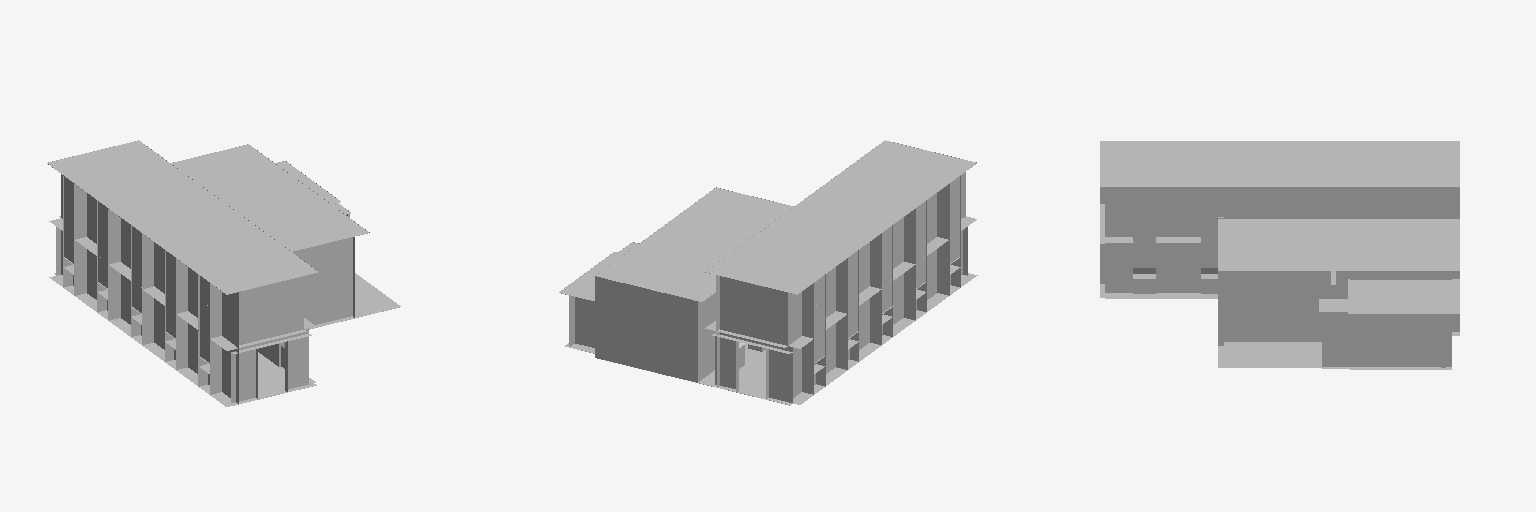
Rendered from LC_cont2_scps2.obj.
3 views of the same model, side by side, from view 1: azimuth 30°, elevation 25°; view 2: azimuth 150°, elevation 25°; view 3: azimuth 270°, elevation 25° (orthographic).
Parts seen in each view (by area): view 1: LC_cont2_scps2; view 2: LC_cont2_scps2; view 3: LC_cont2_scps2.
Part boxes in pixels (x1,y1,x2,y2): LC_cont2_scps2: (47, 140, 400, 406); LC_cont2_scps2: (559, 140, 977, 405); LC_cont2_scps2: (1100, 141, 1459, 369).
Bounding box in the file's own units: 15.68 × 7.06 × 20.49.